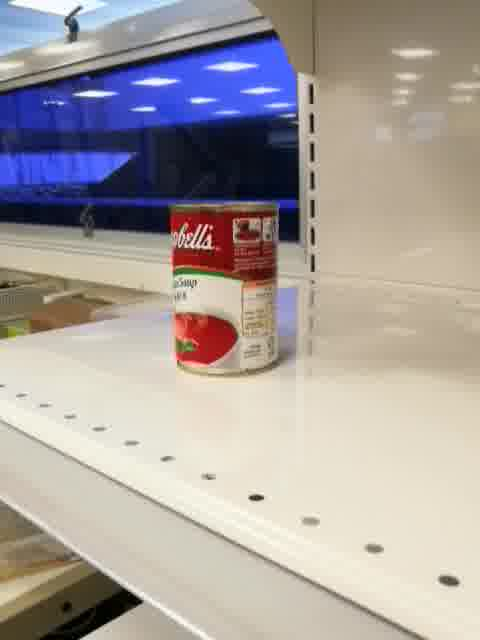tomatosoup: (168, 200, 284, 379)
